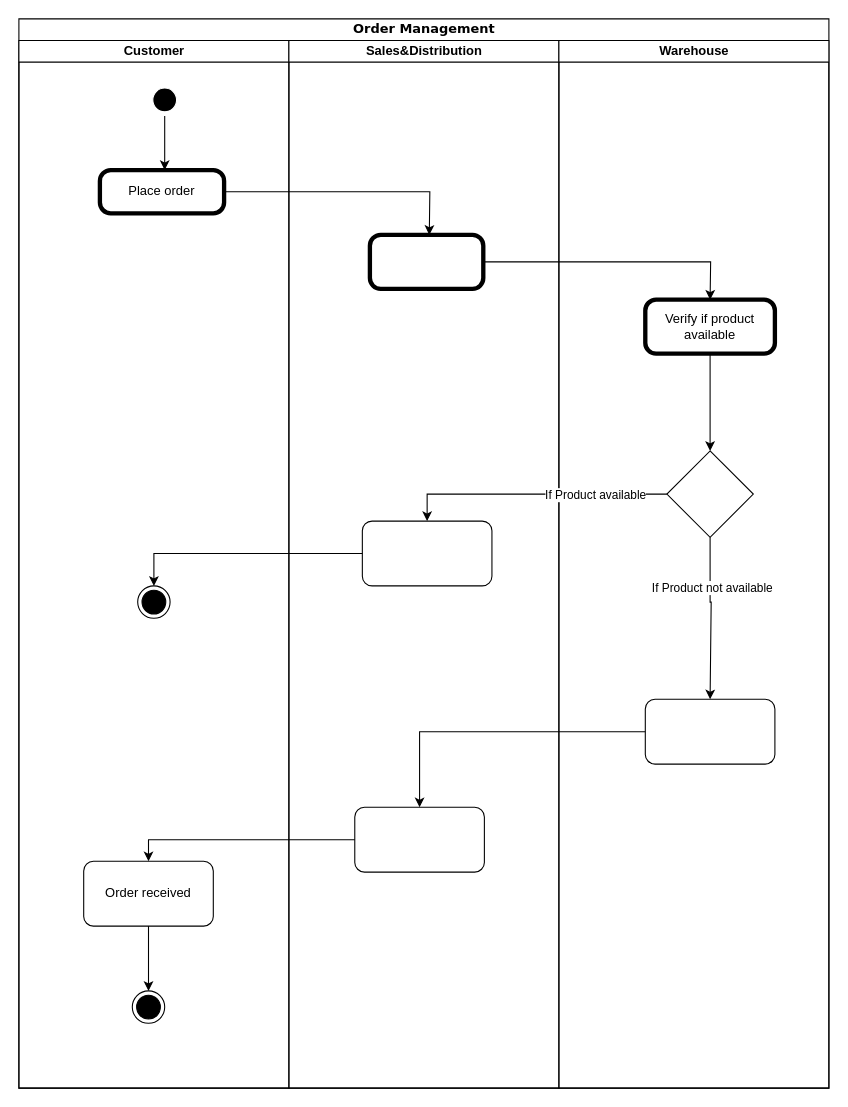
Some shapes in this 848 by 1107 pixel diagram are drawn without their labels. The shapes that lost their labels are listed below. From the top down, each one's centre as x and y in pixels, then its label:
At pixel 426 261: "Receive the order".
At pixel 426 553: "Notify the customer it's not avaliable".
At pixel 709 731: "Prepare the product for shipment".
At pixel 419 839: "Notify the customer about shipment details".
